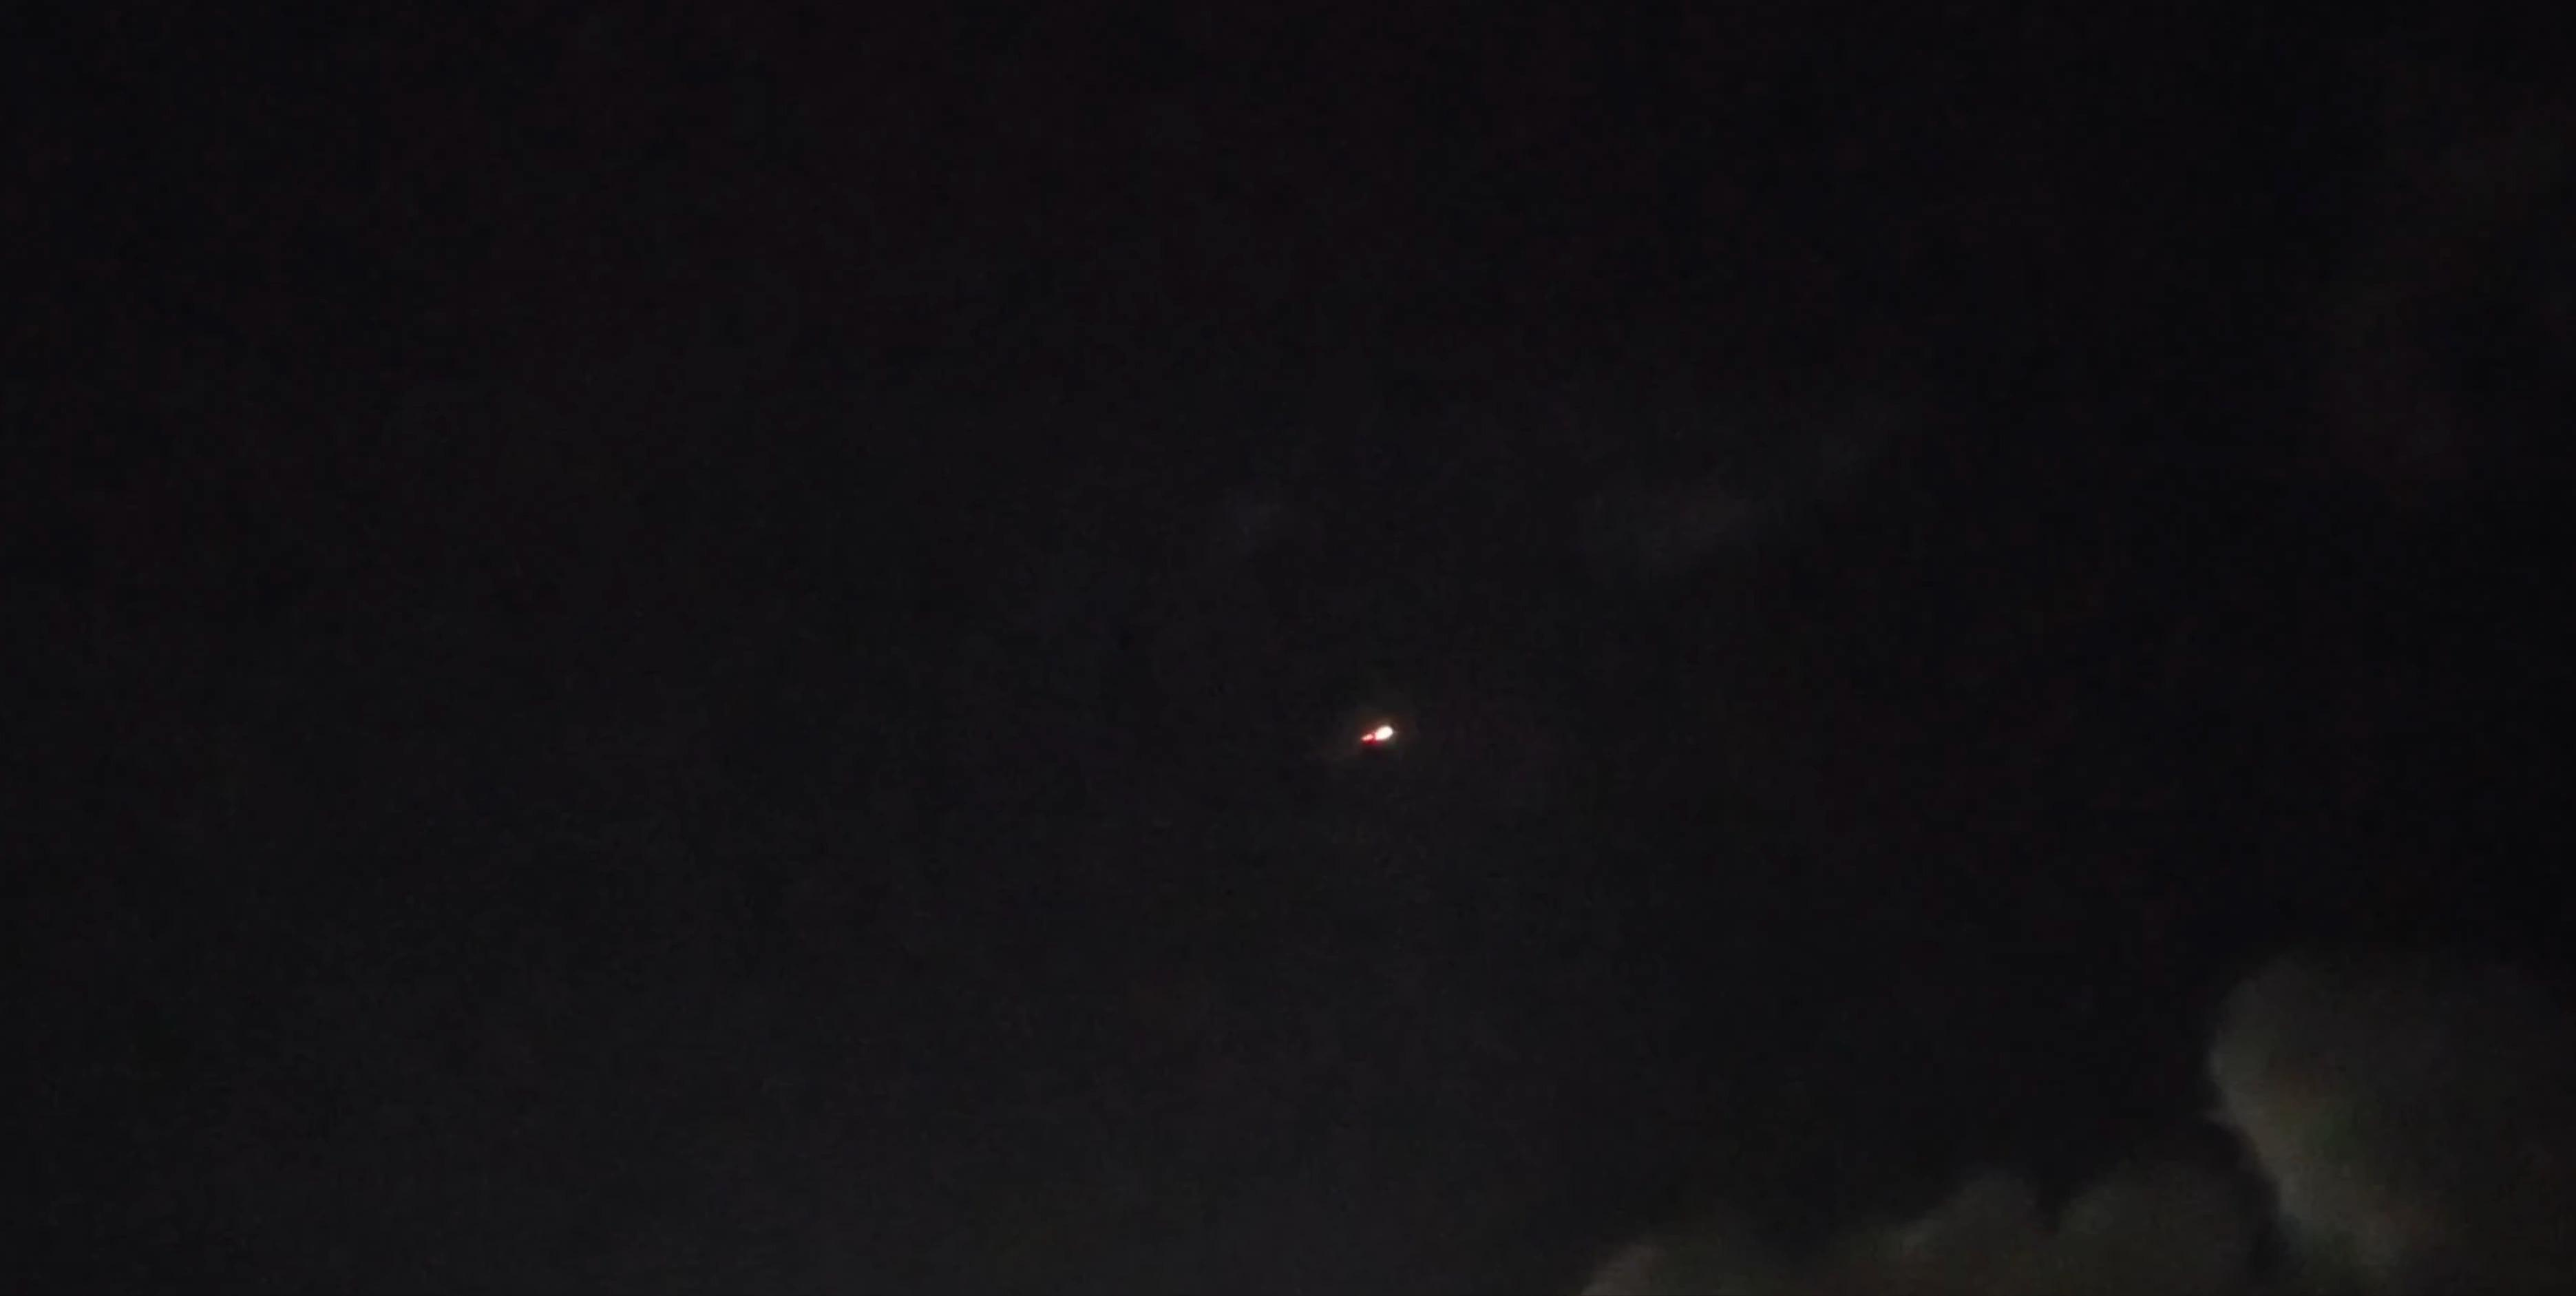Plane: (1279, 691, 1479, 780)
